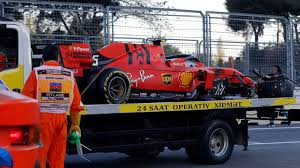f1_car: (48, 33, 261, 109)
